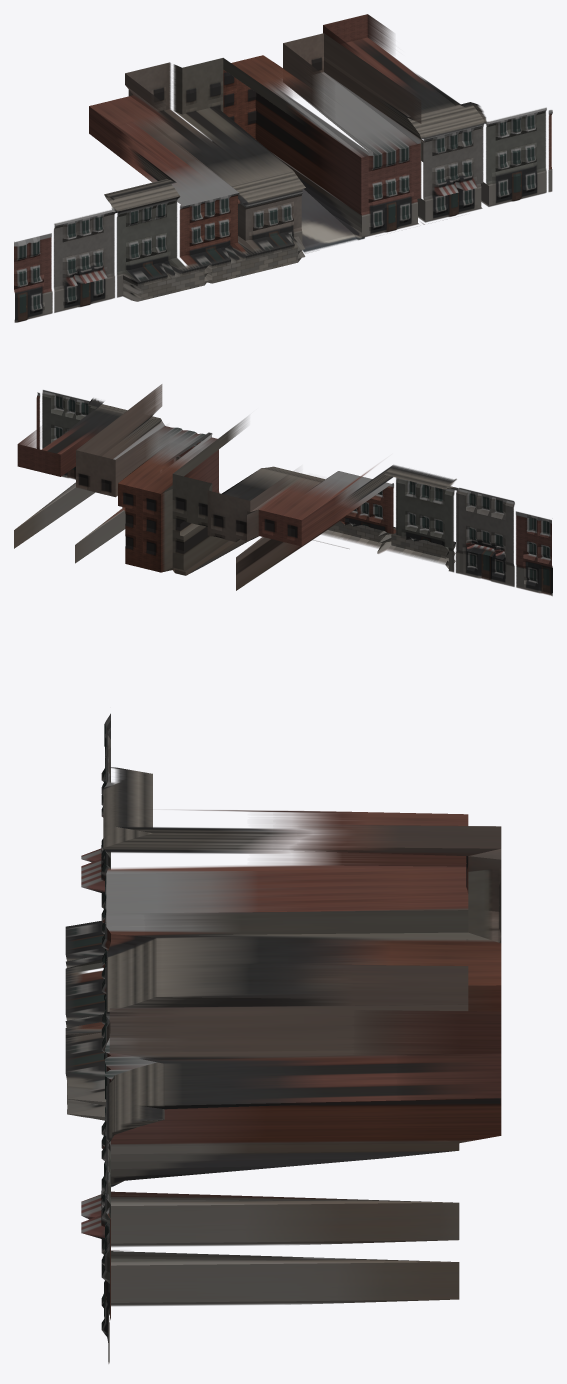
File: street-depth.glb
3 renders of one model, top to bottom at view 1: azimuth 30°, elevation 25°; view 2: azimuth 150°, elevation 25°; view 3: azimuth 270°, elevation 25°, orthographic. The views are drawn at different scales.
Visible parts, largest first — view 1: FacadeRelief; view 2: FacadeRelief; view 3: FacadeRelief.
Boxes of the visible parts, x1,y1,x2,y2 form: FacadeRelief: (14, 14, 552, 322); FacadeRelief: (14, 384, 552, 596); FacadeRelief: (65, 713, 501, 1363).
Size of the model in its own units: 36 by 8 by 13.18.
Materials: 1 (1 with a texture image).
